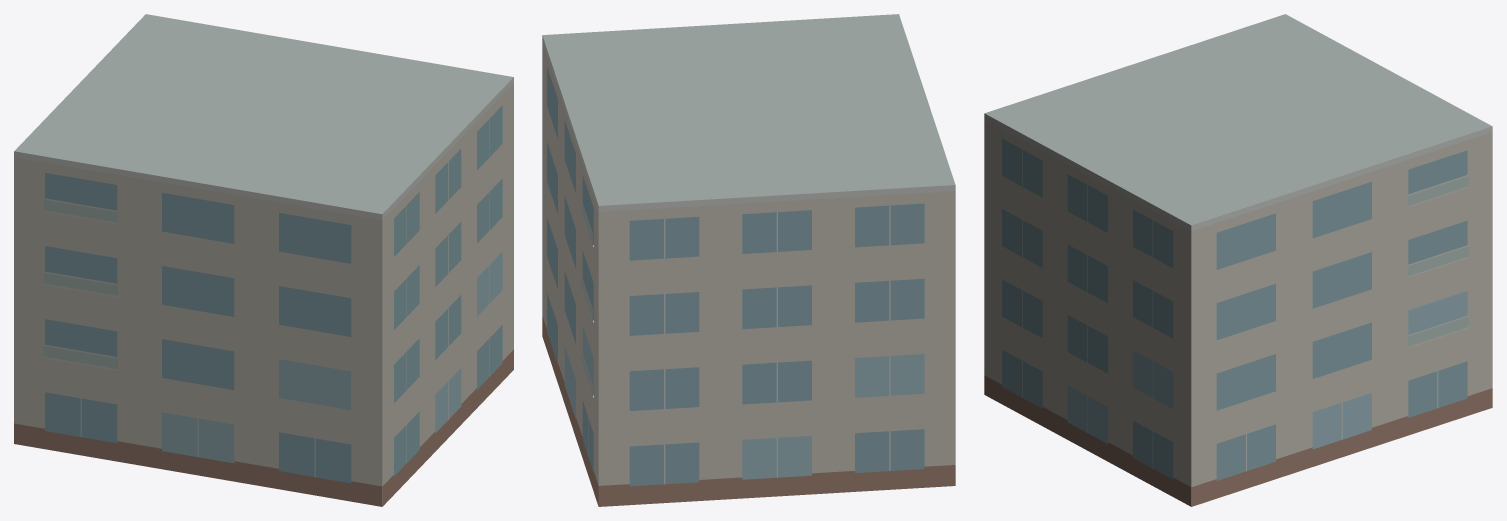
The model's file is residential-9631ccfb-e61d-42d7-b9d8-068695431b70.glb.
3 renders of one model, left to right at view 1: azimuth 30°, elevation 25°; view 2: azimuth 150°, elevation 25°; view 3: azimuth 270°, elevation 25°, orthographic. The views are drawn at different scales.
Visible parts, largest first — view 1: residential-9631ccfb-e61d-42d7-b9d8-068695431b70.tmp; view 2: residential-9631ccfb-e61d-42d7-b9d8-068695431b70.tmp; view 3: residential-9631ccfb-e61d-42d7-b9d8-068695431b70.tmp.
Part boxes in pixels (x1,y1,x2,y2): residential-9631ccfb-e61d-42d7-b9d8-068695431b70.tmp: (14,14,513,506); residential-9631ccfb-e61d-42d7-b9d8-068695431b70.tmp: (542,14,955,506); residential-9631ccfb-e61d-42d7-b9d8-068695431b70.tmp: (984,14,1492,506).
Size of the model in its own units: 19.68 by 12.2 by 19.98.
